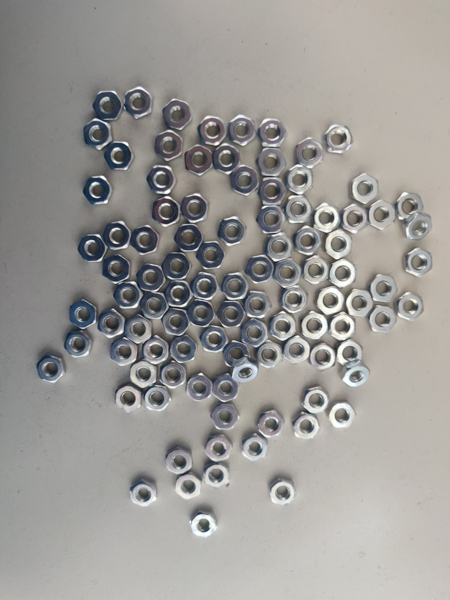nut: (324, 123, 354, 155), (231, 163, 261, 195), (78, 232, 108, 263), (64, 328, 94, 359), (163, 99, 192, 131), (125, 87, 154, 119), (93, 90, 122, 122), (105, 140, 134, 172), (84, 174, 113, 206), (230, 115, 259, 147), (198, 115, 227, 147), (222, 340, 252, 370), (85, 119, 114, 150), (69, 299, 98, 330), (155, 130, 184, 161), (341, 204, 370, 235), (219, 217, 248, 248), (295, 138, 324, 169), (301, 310, 330, 341), (148, 164, 177, 195), (97, 308, 126, 339), (329, 259, 358, 289), (313, 204, 342, 234), (404, 248, 433, 278), (285, 165, 314, 195), (189, 509, 219, 538), (212, 145, 242, 174), (102, 255, 131, 285), (397, 291, 425, 322), (325, 229, 353, 260), (369, 200, 397, 231), (347, 288, 375, 319), (275, 258, 303, 289), (247, 255, 275, 286), (181, 193, 209, 224), (131, 225, 159, 256), (105, 222, 133, 253), (139, 263, 167, 294), (256, 148, 287, 176), (293, 226, 321, 257), (351, 174, 379, 204), (258, 205, 286, 235), (258, 117, 286, 147), (153, 196, 181, 226), (187, 372, 215, 402), (340, 361, 370, 389), (38, 353, 65, 384), (218, 300, 246, 329), (309, 343, 337, 372), (212, 402, 241, 430), (283, 336, 311, 365), (137, 265, 166, 293), (280, 285, 308, 314), (199, 241, 226, 271), (171, 334, 198, 364), (201, 324, 228, 354), (126, 315, 153, 345), (192, 272, 219, 302), (222, 272, 249, 302), (270, 311, 297, 341), (185, 146, 212, 176), (258, 410, 286, 438), (317, 287, 345, 315), (405, 213, 433, 241), (328, 403, 357, 430), (246, 291, 273, 320), (302, 387, 331, 414), (116, 385, 143, 414), (370, 306, 397, 335), (286, 196, 313, 225), (293, 413, 320, 441), (256, 342, 284, 369), (164, 253, 191, 281), (230, 357, 258, 384), (161, 309, 190, 335), (113, 283, 142, 309), (267, 233, 293, 262), (166, 448, 193, 475), (110, 339, 137, 366), (164, 281, 191, 308), (338, 340, 364, 368), (270, 478, 296, 506), (243, 434, 269, 462), (130, 480, 156, 508), (398, 192, 424, 220), (141, 294, 169, 320), (206, 436, 233, 462), (130, 363, 157, 389), (303, 257, 329, 284), (371, 274, 396, 302), (144, 387, 172, 412), (144, 337, 169, 365), (175, 226, 203, 251), (242, 320, 267, 348), (330, 314, 354, 342), (203, 464, 229, 489), (190, 302, 215, 328), (258, 178, 284, 203), (213, 377, 240, 401), (175, 475, 201, 499), (160, 364, 185, 388)
